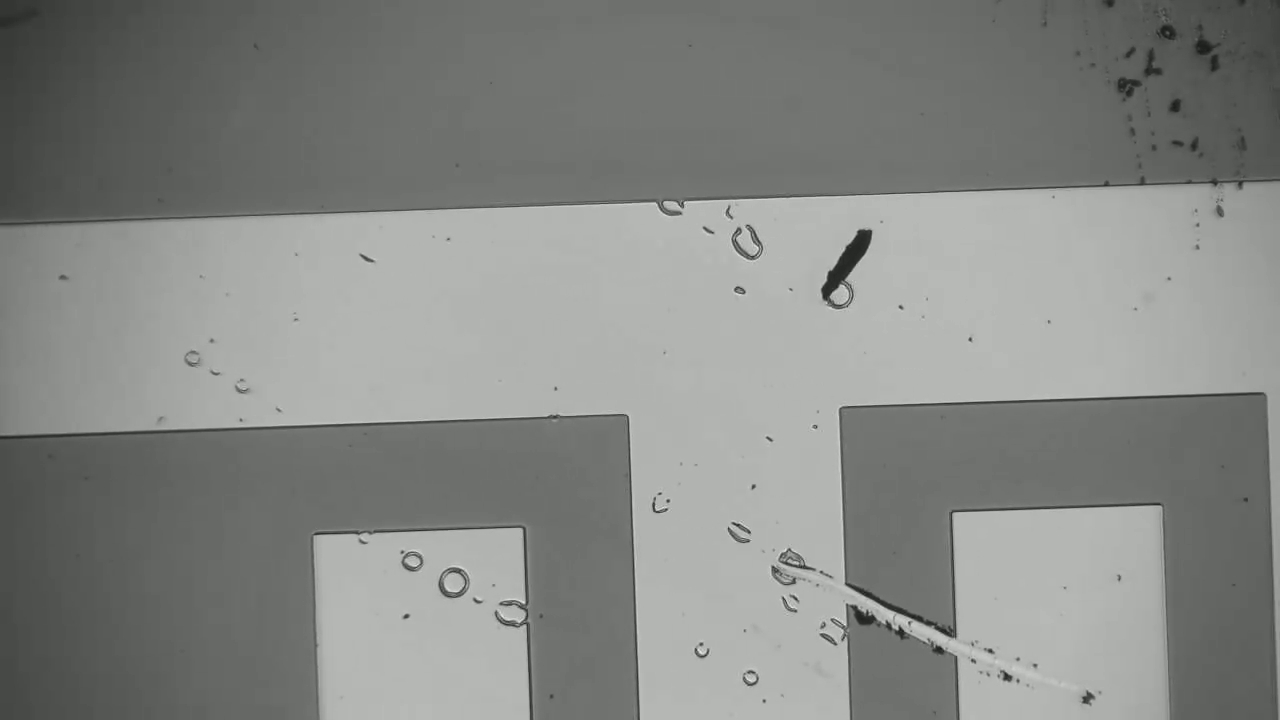Short_circuit: (817, 555, 992, 688)
